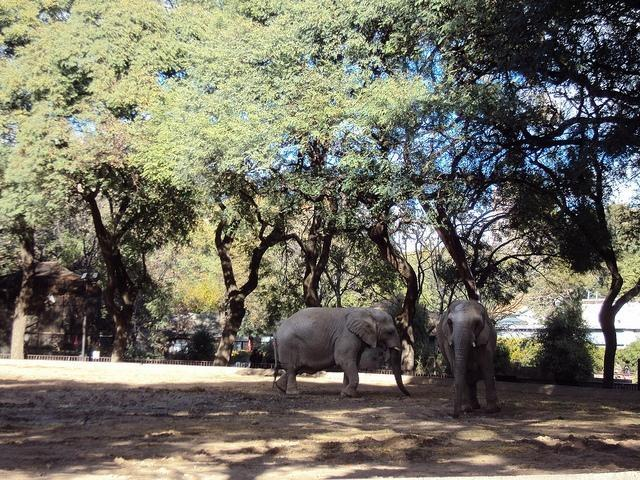car: (62, 319, 116, 351), (167, 334, 192, 359)
